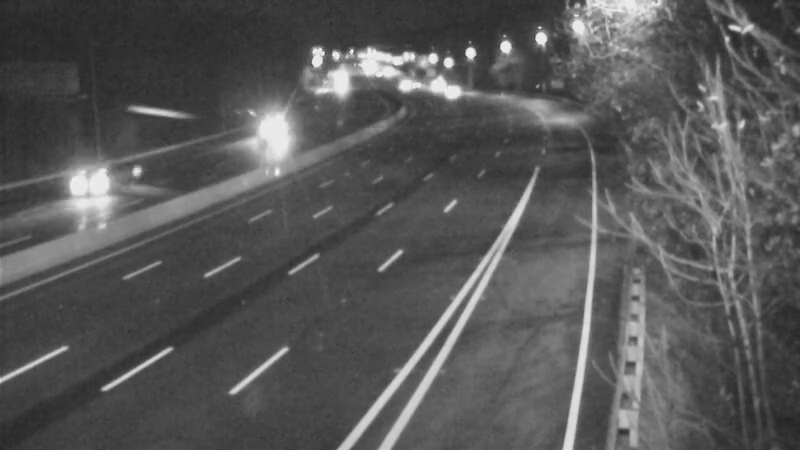vehicle: (49, 140, 129, 220), (375, 62, 425, 112), (412, 59, 462, 109), (432, 68, 482, 118), (252, 106, 302, 156)
